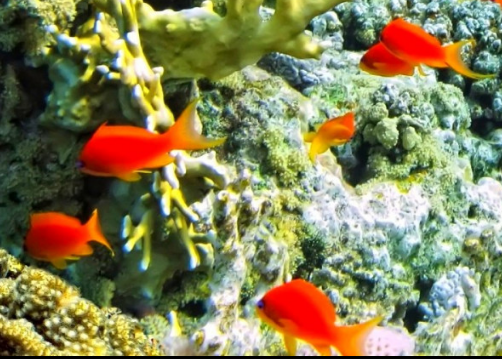fishSmall: (77, 95, 223, 183), (255, 278, 384, 359), (380, 24, 498, 81), (23, 208, 114, 269), (357, 41, 431, 78)
